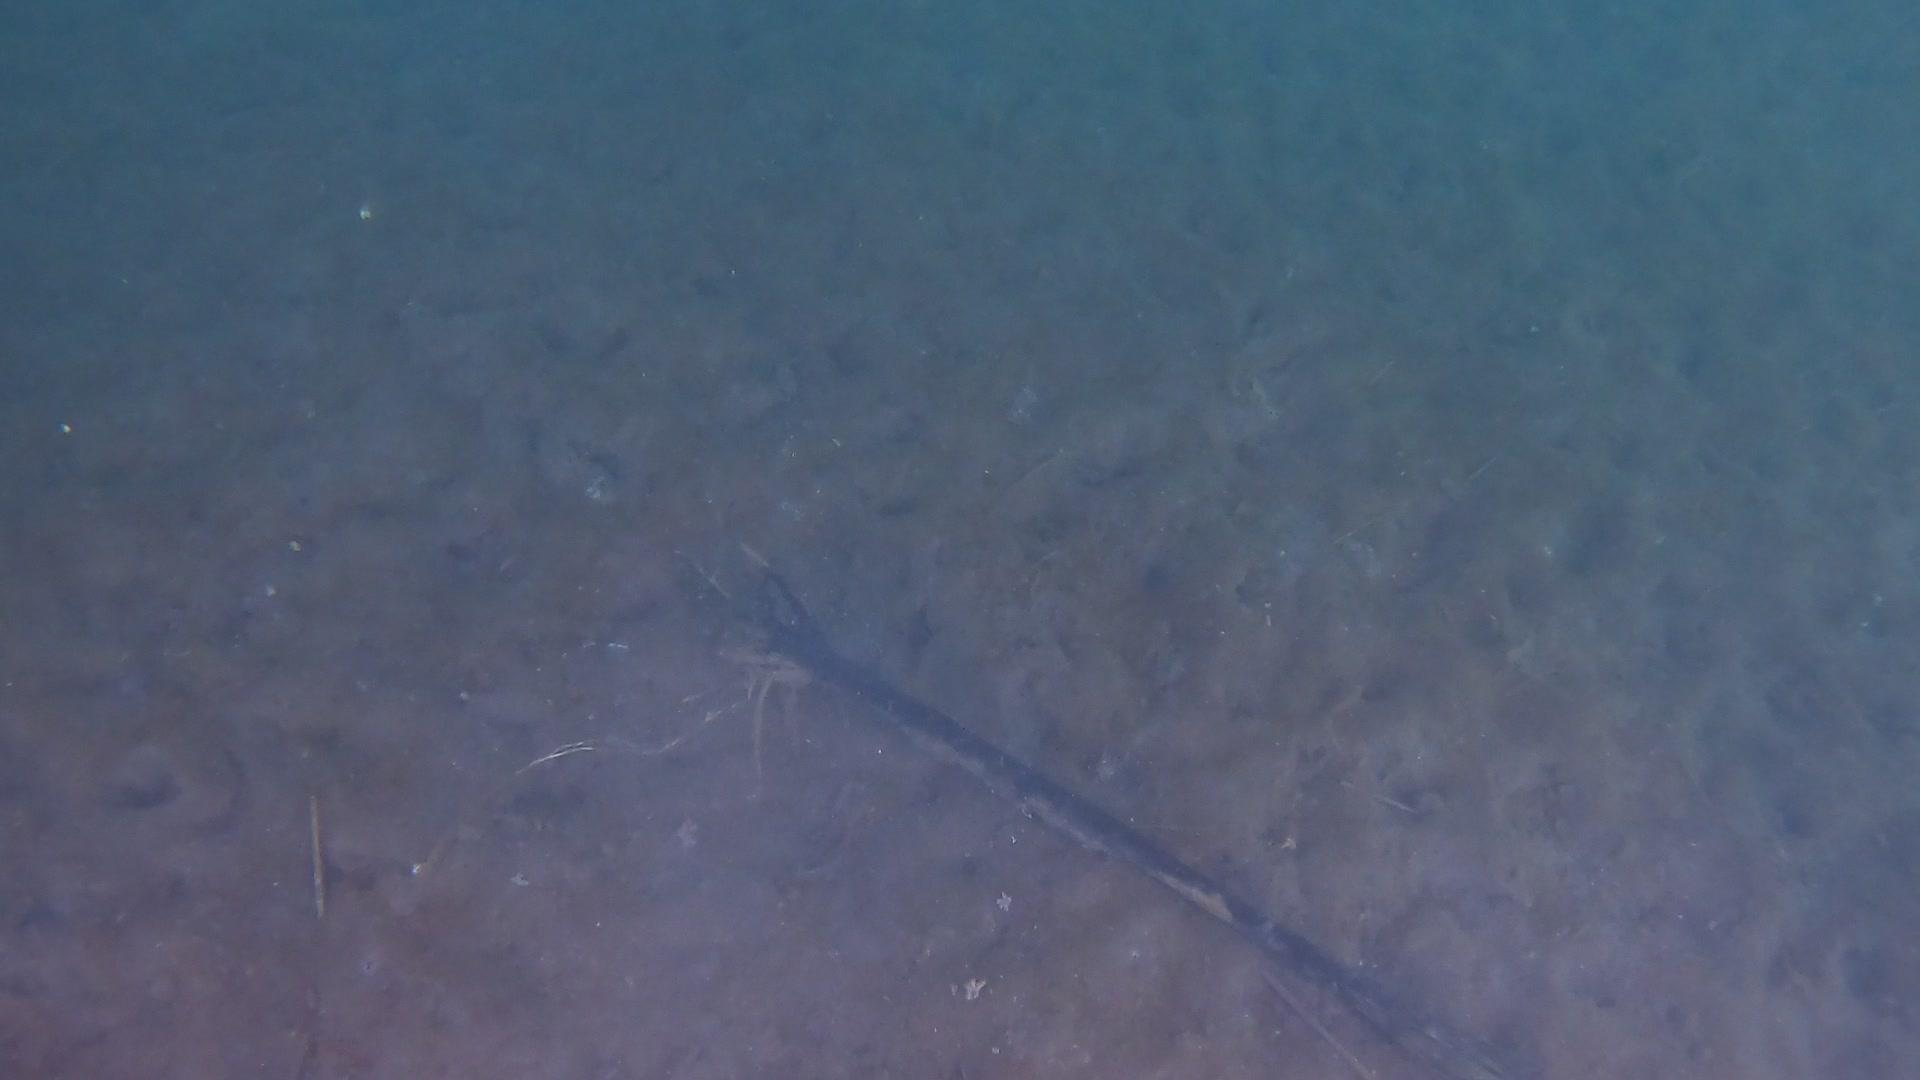wood: (684, 551, 1514, 1080)
